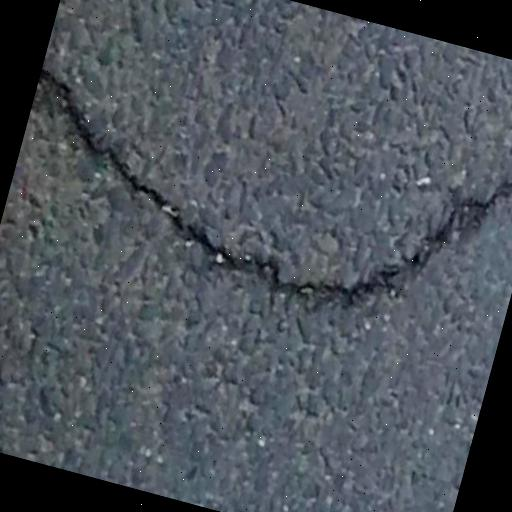spalling: (35, 61, 512, 320)
